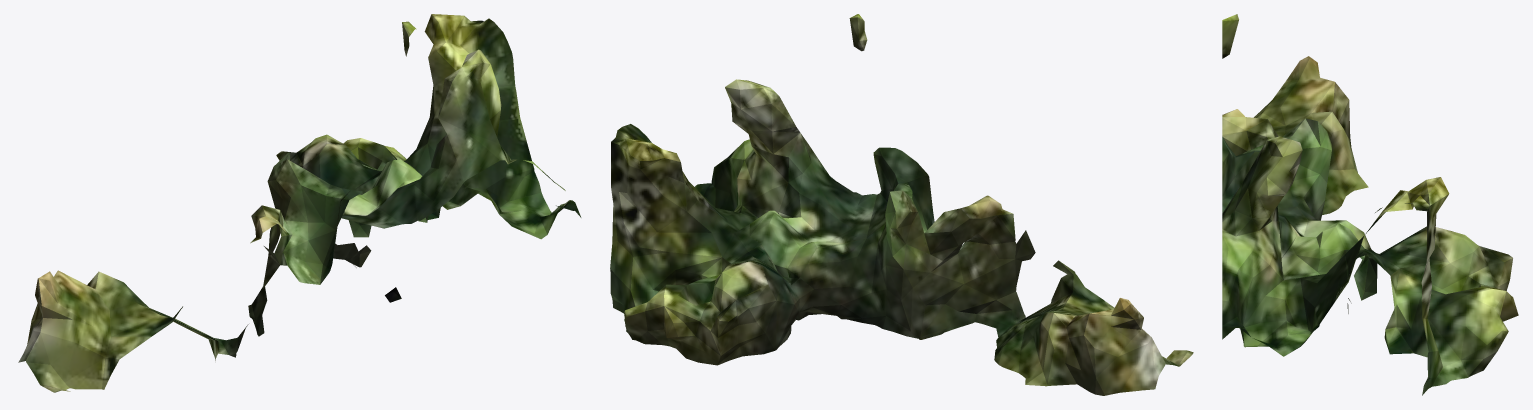
3 renders of one model, left to right at view 1: azimuth 30°, elevation 25°; view 2: azimuth 150°, elevation 25°; view 3: azimuth 270°, elevation 25°, orthographic. The views are drawn at different scales.
Size of the model in its own units: 1.67 by 0.876 by 0.7961.
Materials: 2 (2 with a texture image).
